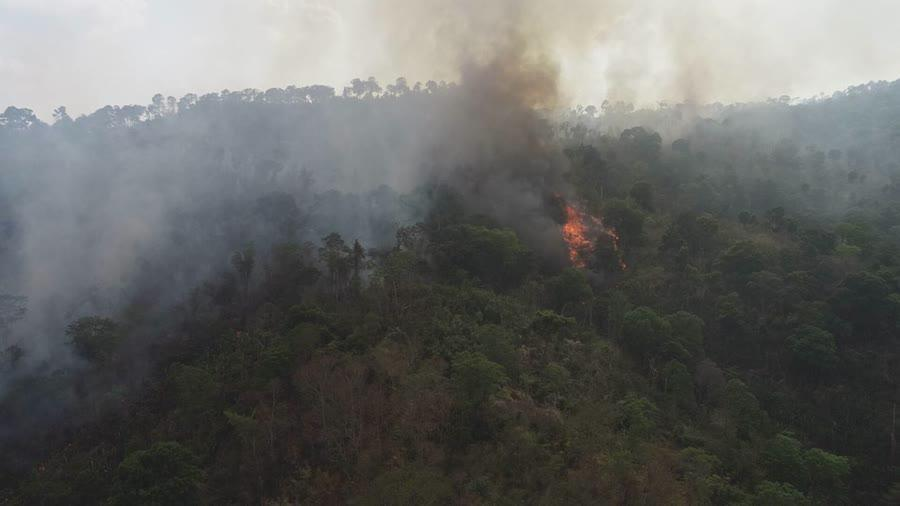fire: (509, 158, 672, 300), (552, 198, 630, 271)
